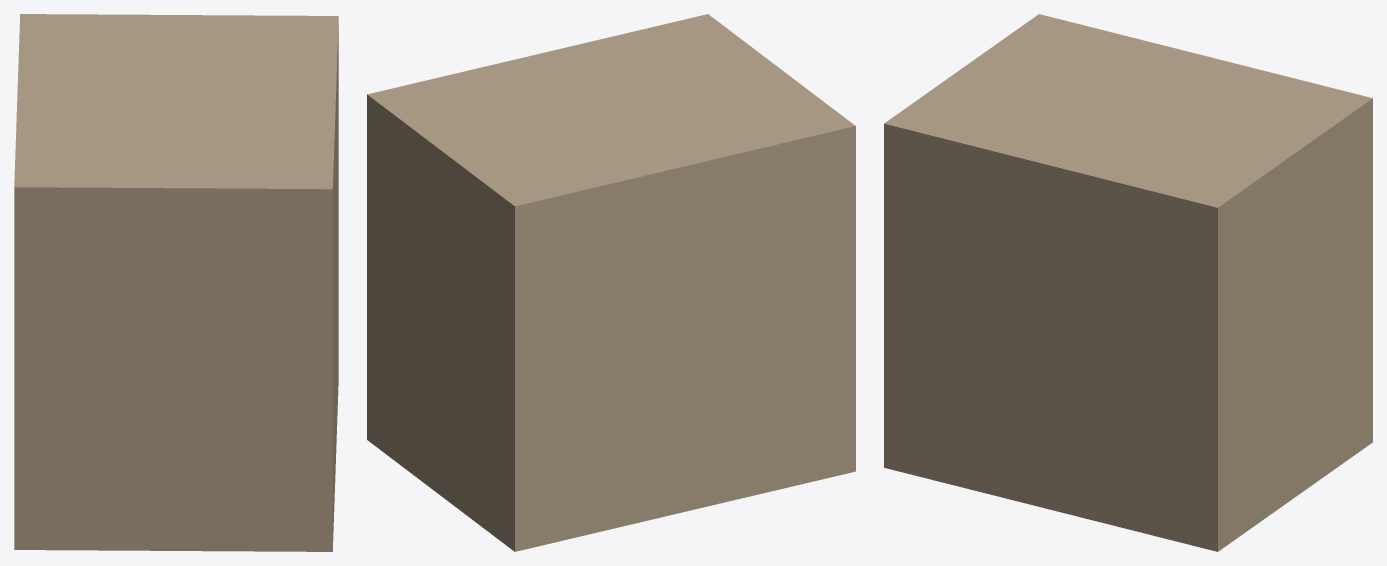
Rendered from bld_101353668.dae.
3 views of the same model, side by side, from view 1: azimuth 30°, elevation 25°; view 2: azimuth 150°, elevation 25°; view 3: azimuth 270°, elevation 25° (orthographic). The views are drawn at different scales.
Parts seen in each view (by area): view 1: bld_101353668; view 2: bld_101353668; view 3: bld_101353668.
Part boxes in pixels (x1,y1,x2,y2): bld_101353668: (14, 14, 338, 551); bld_101353668: (367, 14, 855, 551); bld_101353668: (884, 14, 1372, 551).
Size of the model in its own units: 9.66 by 10.3 by 8.
